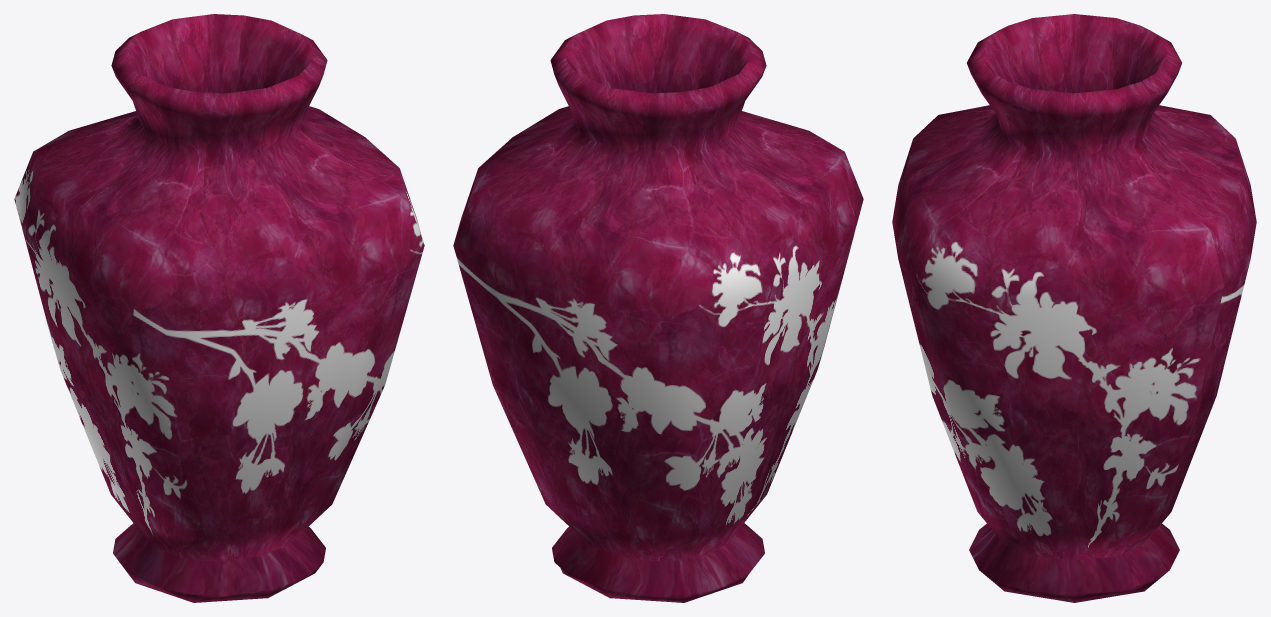
Rendered from JVase_35.fbx.
The picture shows the model from 3 angles, left to right: view 1: azimuth 30°, elevation 25°; view 2: azimuth 150°, elevation 25°; view 3: azimuth 270°, elevation 25°; orthographic projection.
Visible parts, largest first — view 1: JVase_35; view 2: JVase_35; view 3: JVase_35.
Boxes of the visible parts, x1=… form: JVase_35: x1=14, y1=14, x2=424, y2=602; JVase_35: x1=453, y1=14, x2=863, y2=602; JVase_35: x1=892, y1=14, x2=1256, y2=602.
Size of the model in its own units: 46.82 by 72.04 by 46.82.
